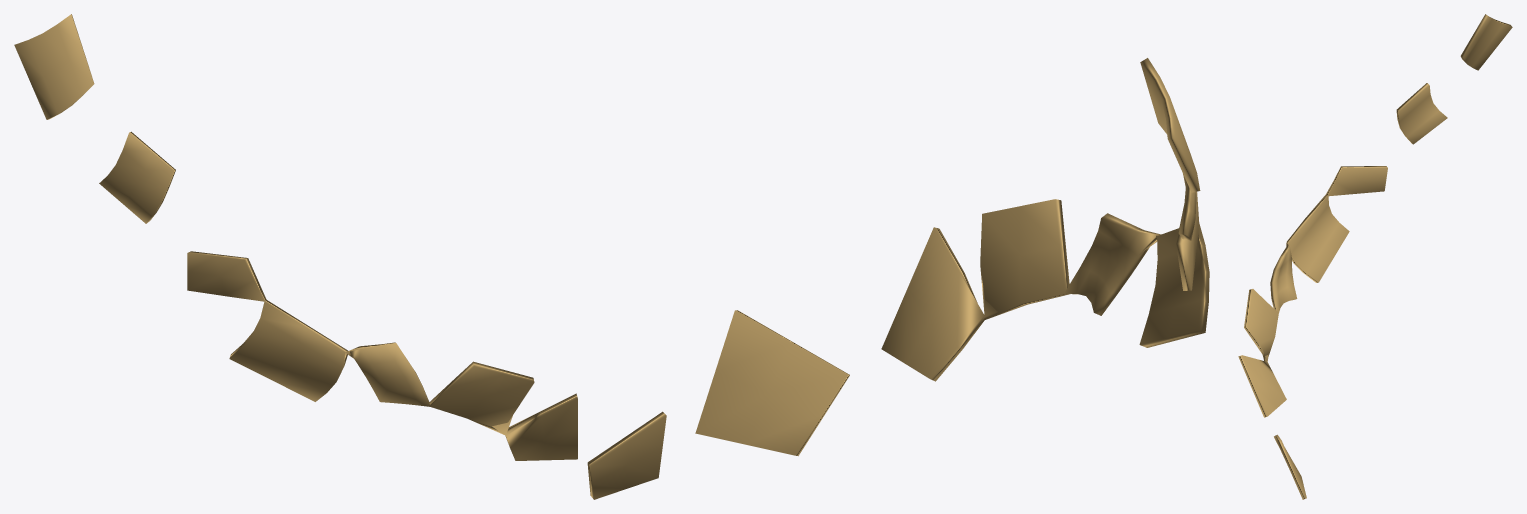
3 views of the same model, side by side, from view 1: azimuth 30°, elevation 25°; view 2: azimuth 150°, elevation 25°; view 3: azimuth 270°, elevation 25° (orthographic). The views are drawn at different scales.
Parts seen in each view (by area): view 1: 右侧跗跖背侧韧带; view 2: 右侧跗跖背侧韧带; view 3: 右侧跗跖背侧韧带.
Boxes of the visible parts, x1=… form: 右侧跗跖背侧韧带: x1=14, y1=14, x2=666, y2=499; 右侧跗跖背侧韧带: x1=695, y1=58, x2=1209, y2=456; 右侧跗跖背侧韧带: x1=1238, y1=14, x2=1512, y2=499.
Bounding box in the file's own units: 0.065 × 0.0605 × 0.0451.
